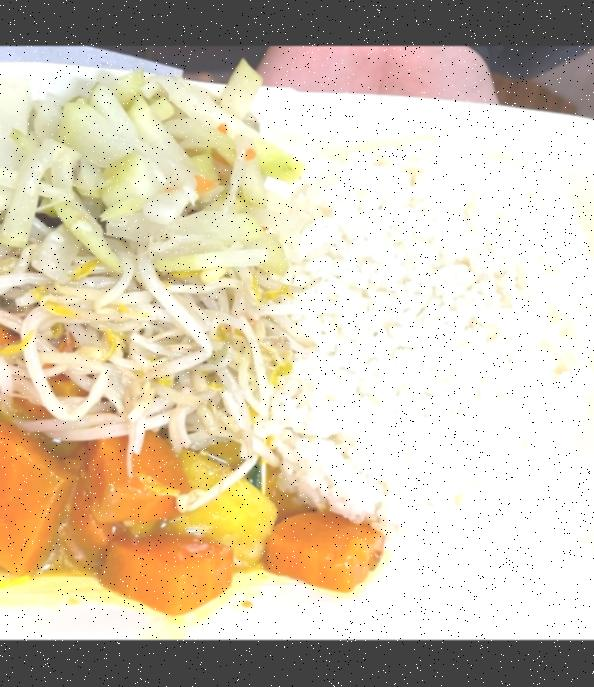box: (0, 63, 594, 614)
side dish: (0, 426, 381, 605), (0, 66, 295, 282), (0, 279, 304, 445)
white rice: (250, 132, 594, 555)
